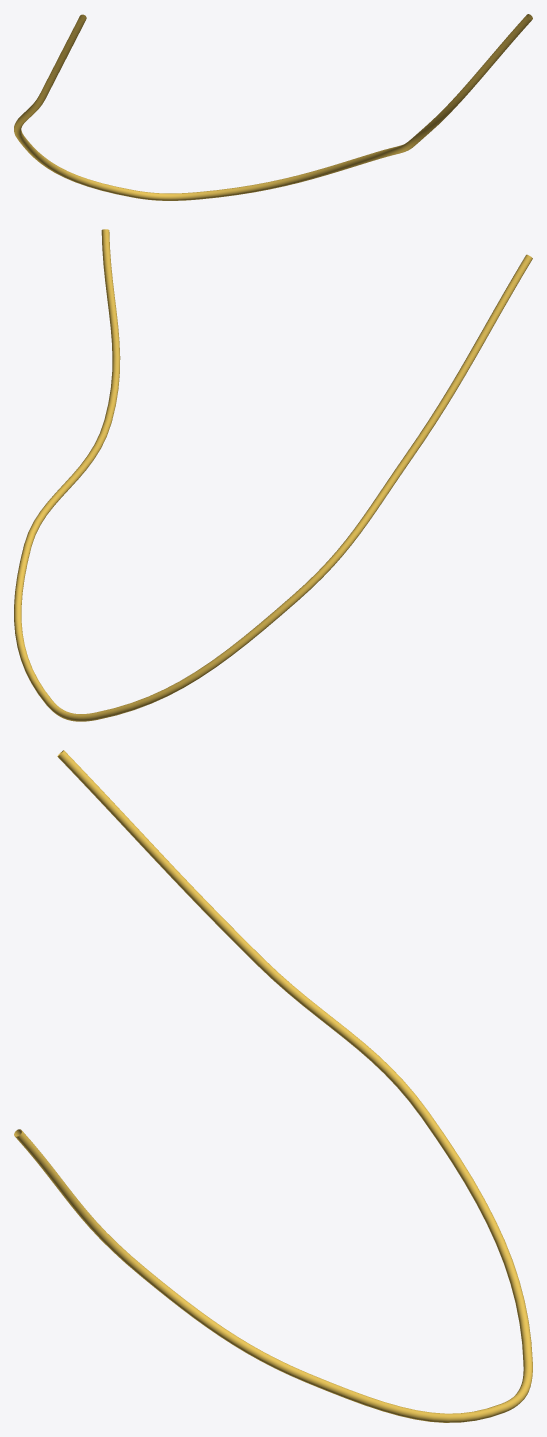
The model's file is Superior_lateral_brachial_cutaneous_nerve_right.glb.
3 views of the same model, one above another, from view 1: azimuth 30°, elevation 25°; view 2: azimuth 150°, elevation 25°; view 3: azimuth 270°, elevation 25° (orthographic). The views are drawn at different scales.
Parts seen in each view (by area): view 1: Superior_lateral_brachial_cutaneous_nerve.r_BezierCurve.410; view 2: Superior_lateral_brachial_cutaneous_nerve.r_BezierCurve.410; view 3: Superior_lateral_brachial_cutaneous_nerve.r_BezierCurve.410.
Part boxes in pixels (left/top/right/bottom): Superior_lateral_brachial_cutaneous_nerve.r_BezierCurve.410: left=14, top=14, right=532, bottom=200; Superior_lateral_brachial_cutaneous_nerve.r_BezierCurve.410: left=14, top=229, right=532, bottom=721; Superior_lateral_brachial_cutaneous_nerve.r_BezierCurve.410: left=14, top=750, right=532, bottom=1422.
Size of the model in its own units: 0.0666 by 0.0561 by 0.0544.
